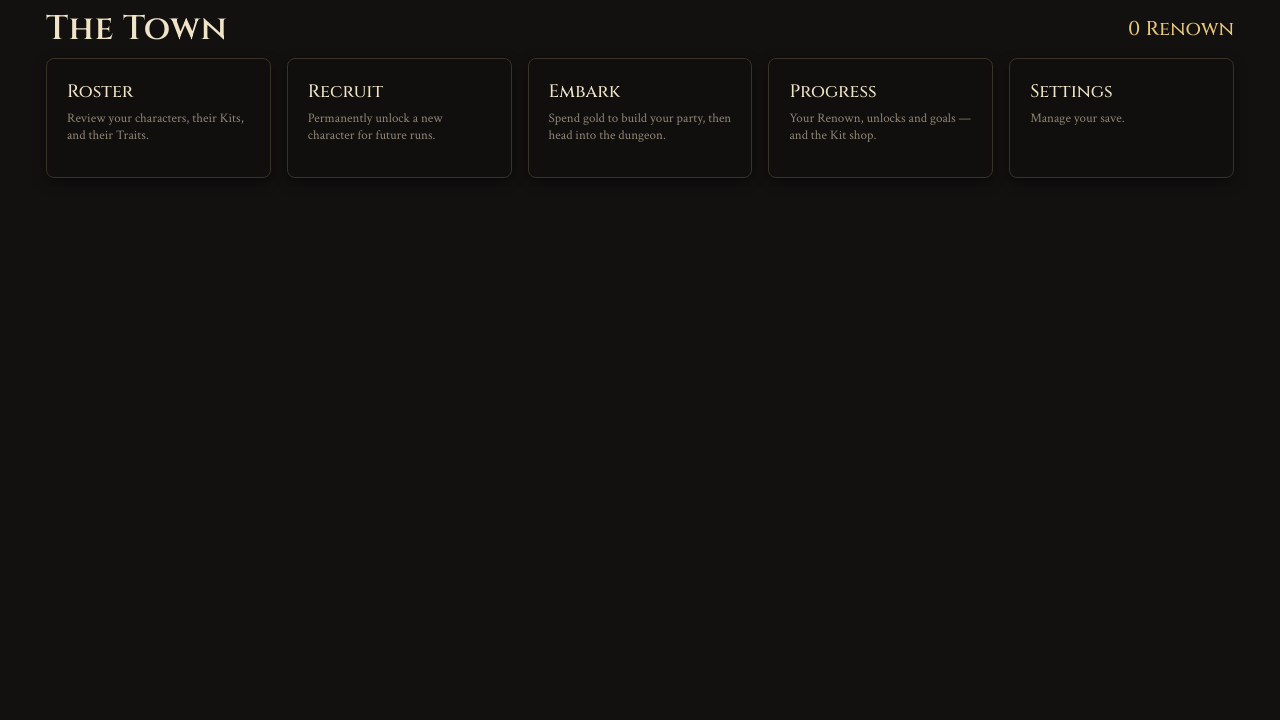
Scenario: TownPhase › moves New Game into a separate Settings card, not shown on the Hub
Expected: the button "New Game" is not shown
Click the button "Settings Manage your save." at coordinates (1122, 118), box [1009, 58, 1234, 178]
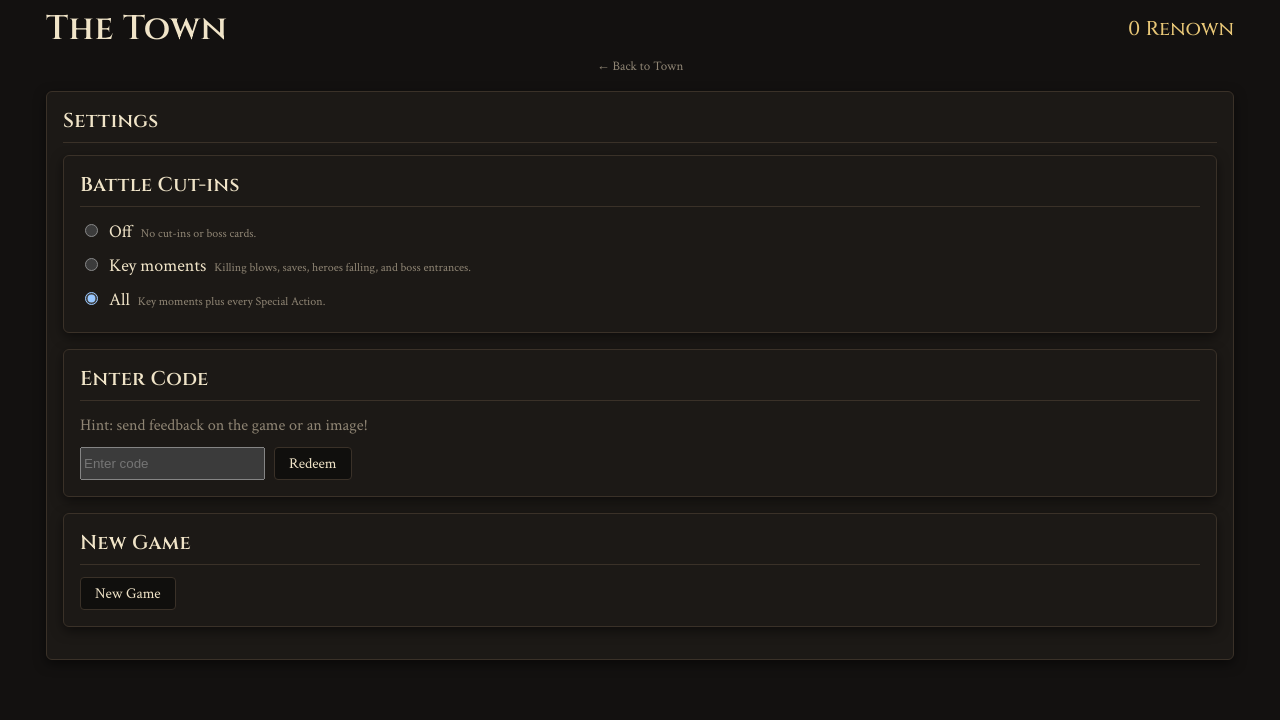
Expected: the heading "Settings" is shown, [63, 108, 1217, 143]
Expected: the button "New Game" is shown, [80, 577, 176, 610]
